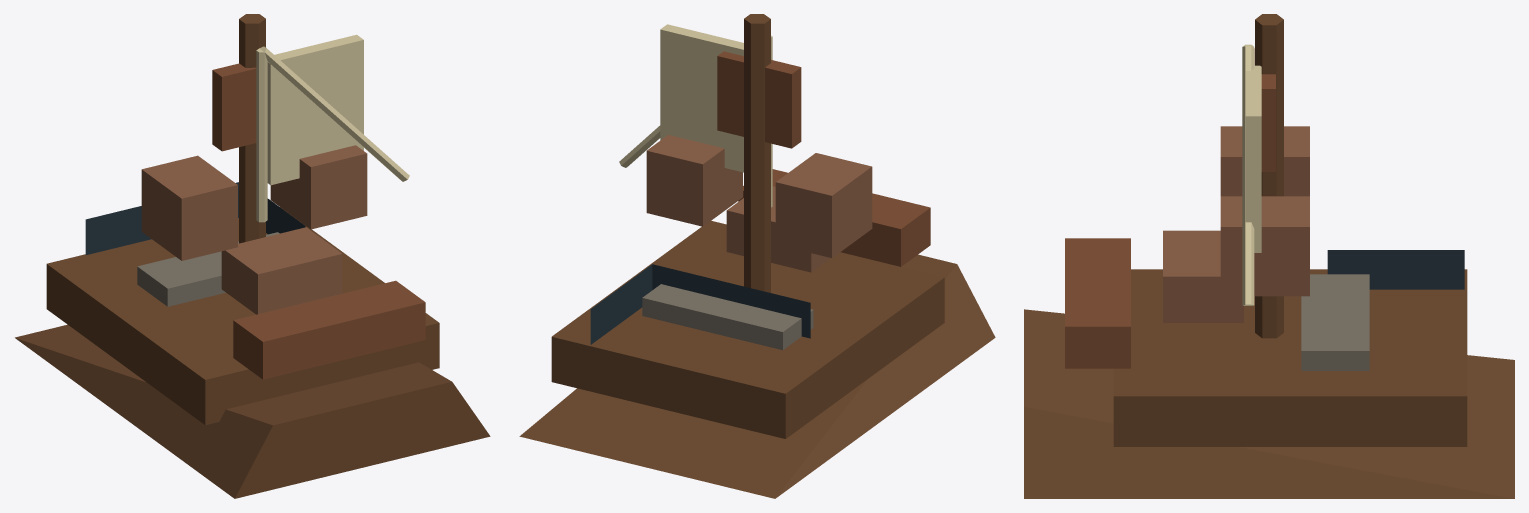
Rendered from ship.obj.
3 views of the same model, side by side, from view 1: azimuth 30°, elevation 25°; view 2: azimuth 150°, elevation 25°; view 3: azimuth 270°, elevation 25° (orthographic). The views are drawn at different scales.
Visible parts, largest first — view 1: ship; view 2: ship; view 3: ship.
Boxes of the visible parts, x1=… form: ship: x1=15, y1=14, x2=490, y2=498; ship: x1=519, y1=14, x2=995, y2=498; ship: x1=1024, y1=14, x2=1514, y2=498.
Size of the model in its own units: 1.66 by 2.13 by 2.31.
